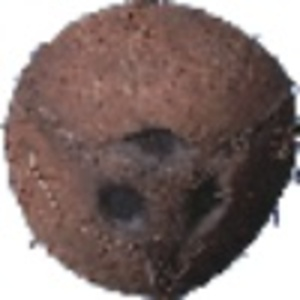coco: (2, 1, 300, 300)
